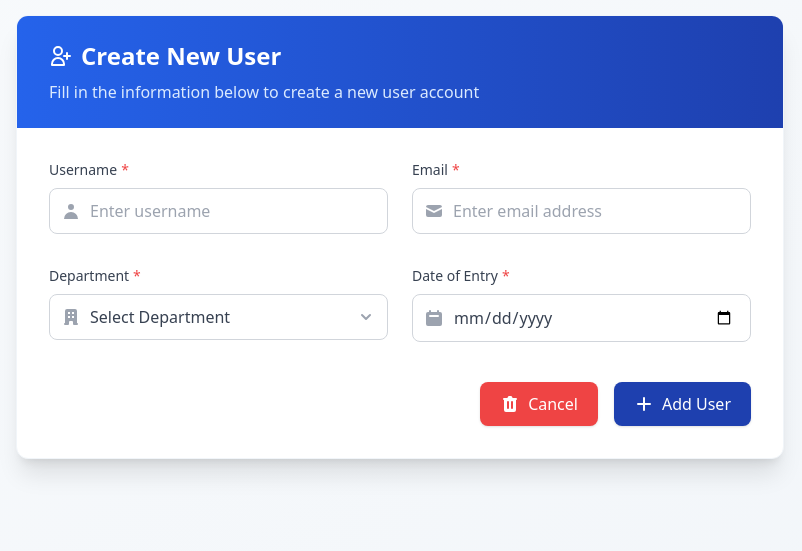
UserCreate Component › shows validation errors when form is invalid
The width and height of the screenshot is (802, 551).
Submit the form without filling in any fields
Click the button "Add User": (682, 404) top-left (614, 382), bottom-right (751, 426)
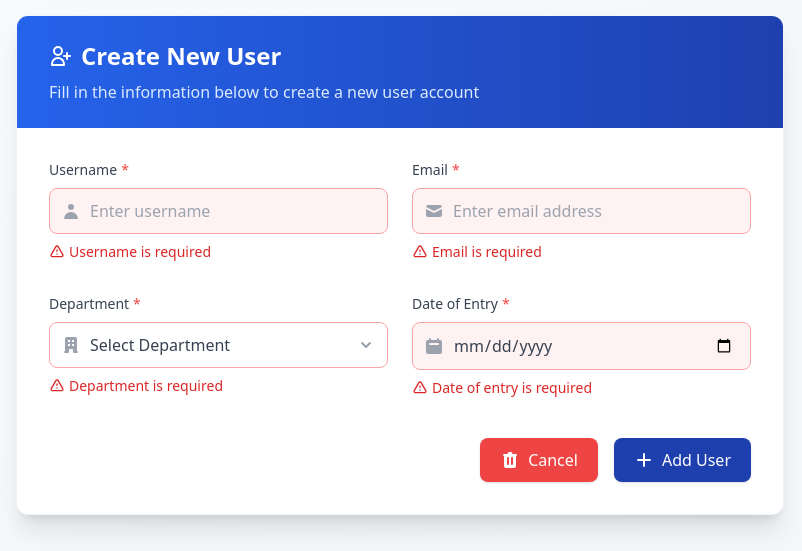
Expected: the text "Username is required" is shown, top-left (49, 242), bottom-right (211, 261)
Expected: the text "Email is required" is shown, top-left (412, 242), bottom-right (542, 261)
Expected: the text "Department is required" is shown, top-left (49, 376), bottom-right (223, 395)
